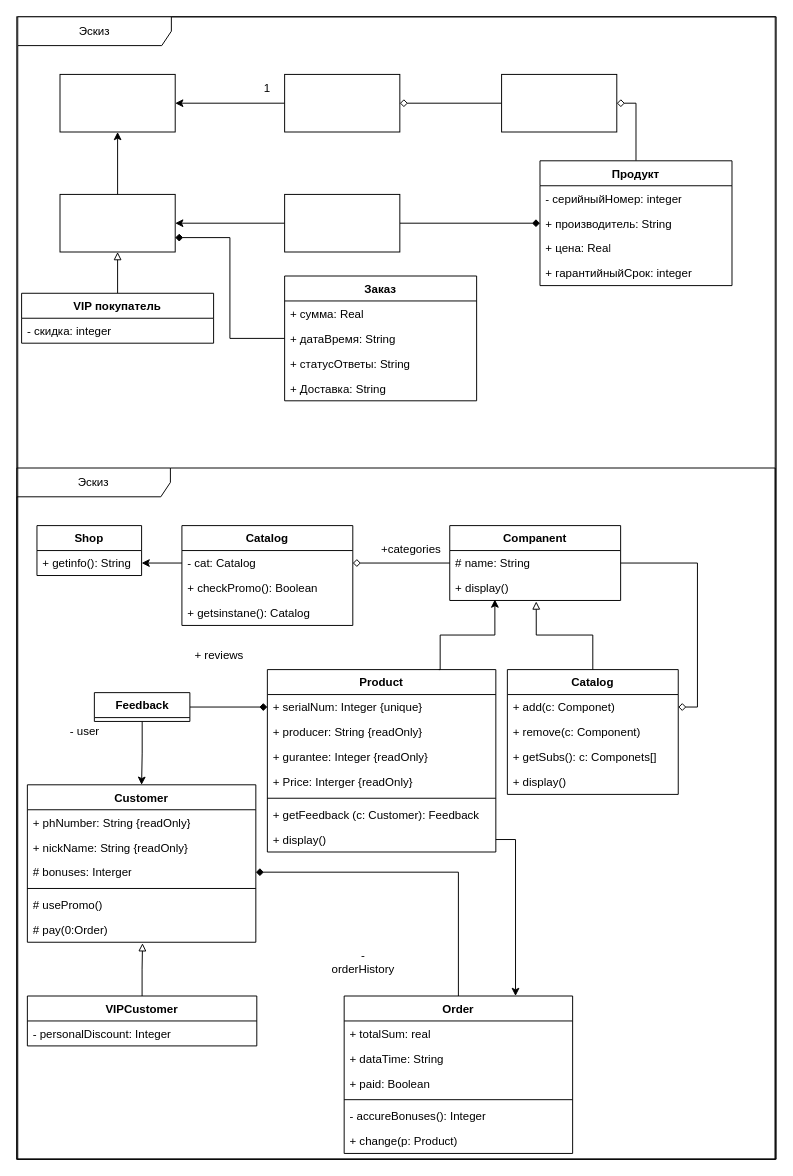
This 793x1176 diagram has some shape labels left out. The centre of each missing label's shape, as x and y in pixels:
Каталог: the point at 342,102
Категория: the point at 559,102
Магазин: the point at 117,102
Отзыв: the point at 342,222
Покупатель: the point at 117,222
